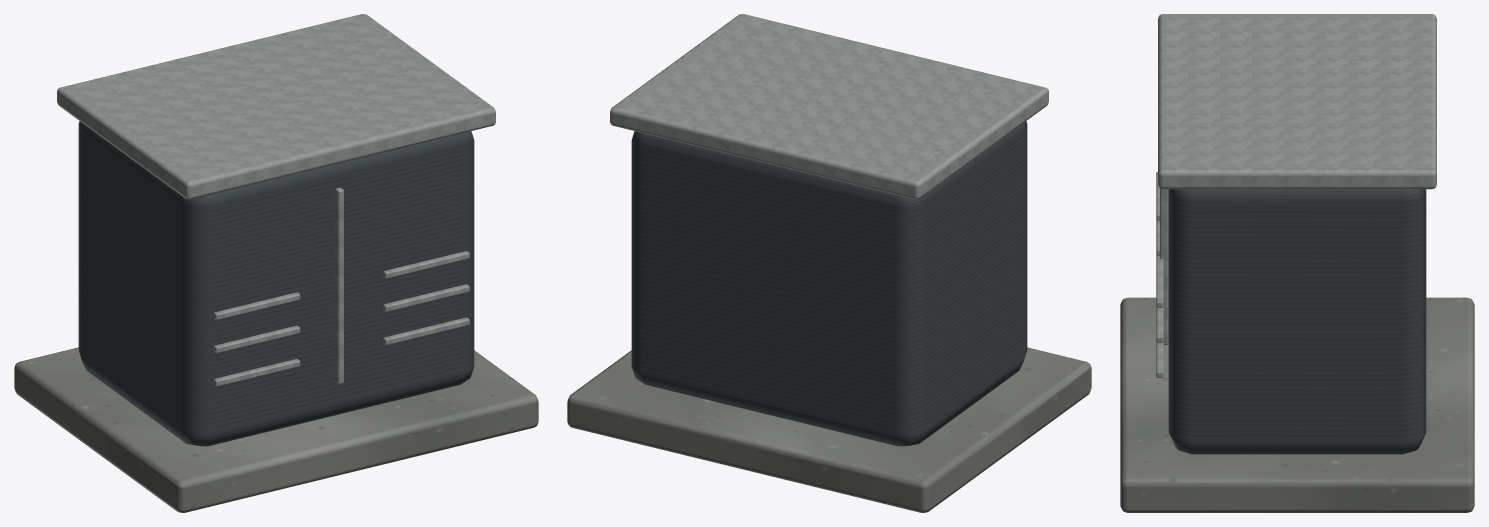
Rendered from service-pad-transformer.lod0.gltf.
The picture shows the model from 3 angles, left to right: view 1: azimuth 30°, elevation 25°; view 2: azimuth 150°, elevation 25°; view 3: azimuth 270°, elevation 25°; orthographic projection. The views are drawn at different scales.
Visible parts, largest first — view 1: service-pad-transformer; view 2: service-pad-transformer; view 3: service-pad-transformer.
Boxes of the visible parts, <box> form: service-pad-transformer: <box>14,14,538,512</box>; service-pad-transformer: <box>567,14,1091,512</box>; service-pad-transformer: <box>1120,14,1474,512</box>.
Size of the model in its own units: 2.05 by 1.7 by 1.65.
3 materials, 3 textured.
